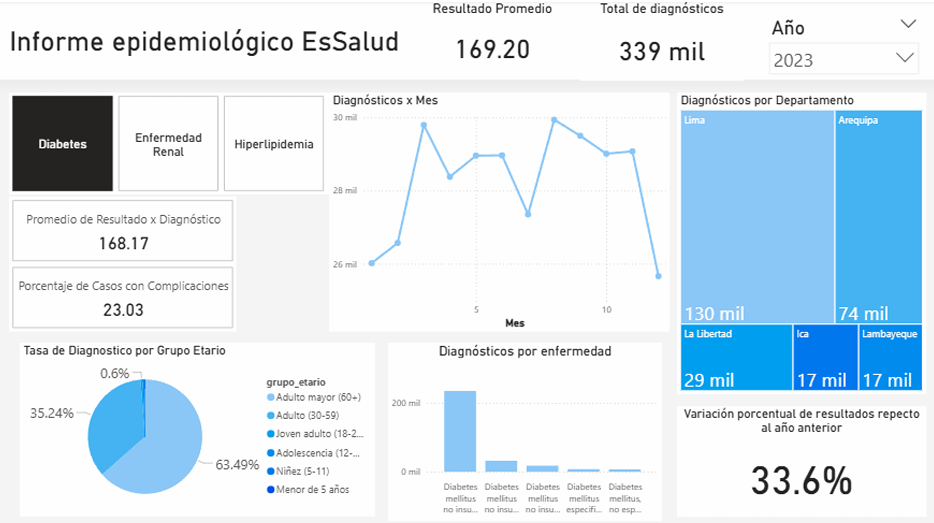

This screenshot's page, from the dashboard's own definition file:
{"tool":"powerbi","page":{"name":"Página 1","canvas":[1280,720],"ordinal":0},"visuals":[{"type":"card","fields":{"Values":["_Medidas.Titulo"]},"box":[0,0,562,105.4],"z":0},{"type":"slicer","fields":{"Values":["Cubo_nuevo.anio"]},"box":[1040.5,16.1,223.9,89.3],"z":1000},{"type":"card","title":"Resultado Promedio","fields":{"Values":["_Medidas.prom_resultado"]},"box":[562,0,222.4,105.4],"z":2000},{"type":"card","title":"Total de diagnósticos","fields":{"Values":["_Medidas.cant_diagnosticos"]},"box":[793.2,0,222.4,109.8],"z":3000},{"type":"treemap","title":"Diagnósticos por Departamento","fields":{"Group":["Cubo_nuevo.departamento"],"Values":["_Medidas.cant_diagnosticos"]},"box":[924.9,125.9,339.5,411.2],"z":4000},{"type":"pieChart","title":"Tasa de Diagnostico por Grupo Etario","fields":{"Category":["Cubo_nuevo.grupo_etario"],"Y":["_Medidas.cant_diagnosticos"]},"box":[29.3,466.8,484.4,237.1],"z":5000},{"type":"card","title":"Variación porcentual de resultados repecto al año anterior","fields":{"Values":["_Medidas.ly_prom_resultado %"]},"box":[924.9,553.2,339.5,150.7],"z":6000},{"type":"columnChart","title":"Diagnósticos por enfermedad","fields":{"Category":["Cubo_nuevo.des_enfermedad"],"Y":["_Medidas.cant_diagnosticos"]},"box":[531.2,466.8,373.2,242.9],"z":7000},{"type":"advancedSlicerVisual","fields":{"Values":["Cubo_nuevo.cat_enfermedad"]},"box":[14.6,125.9,436.1,139],"z":9001},{"type":"cardVisual","fields":{"Data":["_Medidas.Resultado x Diagnóstico","_Medidas.Casos_cn_complicacion_%"]},"box":[14.6,267.8,310.2,184.4],"z":9002},{"type":"lineChart","title":"Diagnósticos x Mes","fields":{"Category":["Cubo_nuevo.mes"],"Y":["_Medidas.cant_diagnosticos"]},"box":[450.7,125.9,463.9,326.3],"z":9003}]}

Visuals, with their boxes in screenshot pixels (x1, y1, x2, y2), scaled from the page's 1280x720 canvas onto the 934x523 screenshot:
card - _Medidas.Titulo: <box>0,0,410,77</box>
slicer - Cubo_nuevo.anio: <box>759,12,923,77</box>
"Resultado Promedio" card: <box>410,0,572,77</box>
"Total de diagnósticos" card: <box>579,0,741,80</box>
"Diagnósticos por Departamento" treemap: <box>675,91,923,390</box>
"Tasa de Diagnostico por Grupo Etario" pieChart: <box>21,339,375,511</box>
"Variación porcentual de resultados repecto al año anterior" card: <box>675,402,923,511</box>
"Diagnósticos por enfermedad" columnChart: <box>388,339,660,516</box>
advancedSlicerVisual - Cubo_nuevo.cat_enfermedad: <box>11,91,329,192</box>
cardVisual - _Medidas.Resultado x Diagnóstico x _Medidas.Casos_cn_complicacion_%: <box>11,195,237,328</box>
"Diagnósticos x Mes" lineChart: <box>329,91,667,328</box>
